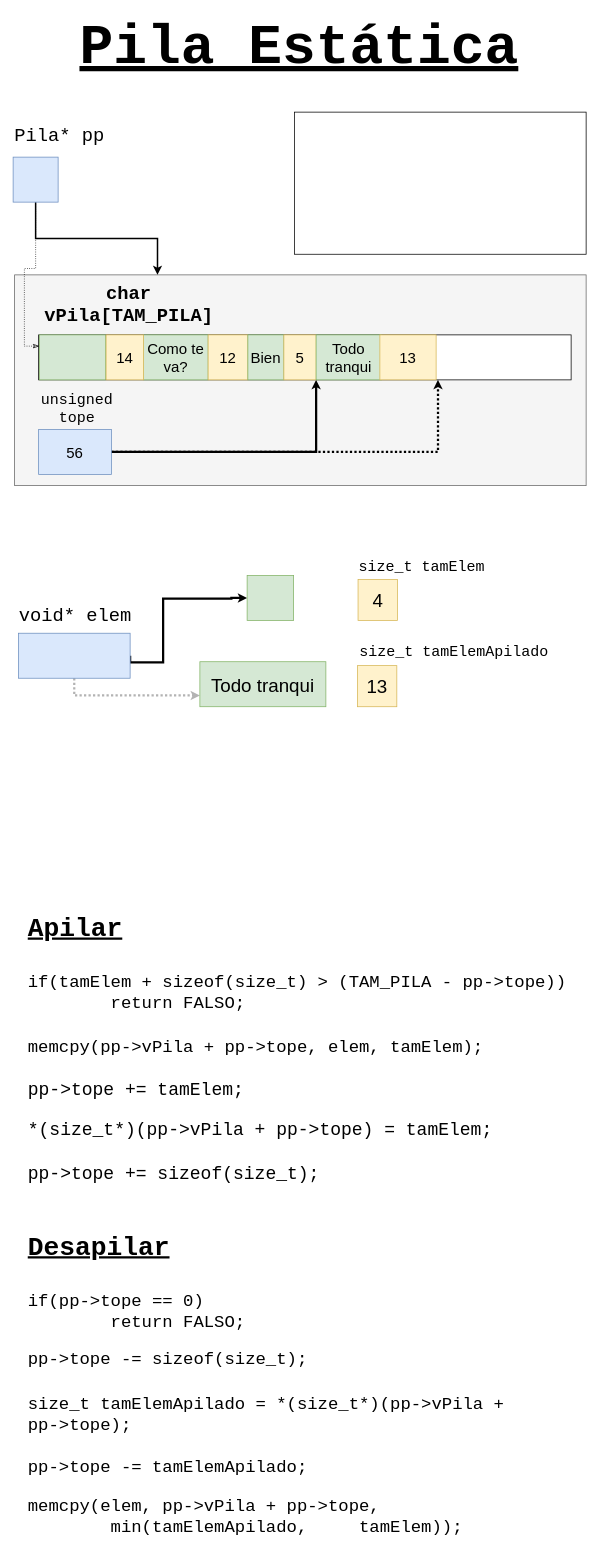
This 599x1551 diagram has some shape labels left out. The centre of each missing label's shape, as x and y in pixels:
Hola que tal?: (x=72, y=357)
Todo: (x=270, y=597)
Typedef struct { char vPila[TAM_PILA]; int tope; } Pila;: (x=440, y=182)
